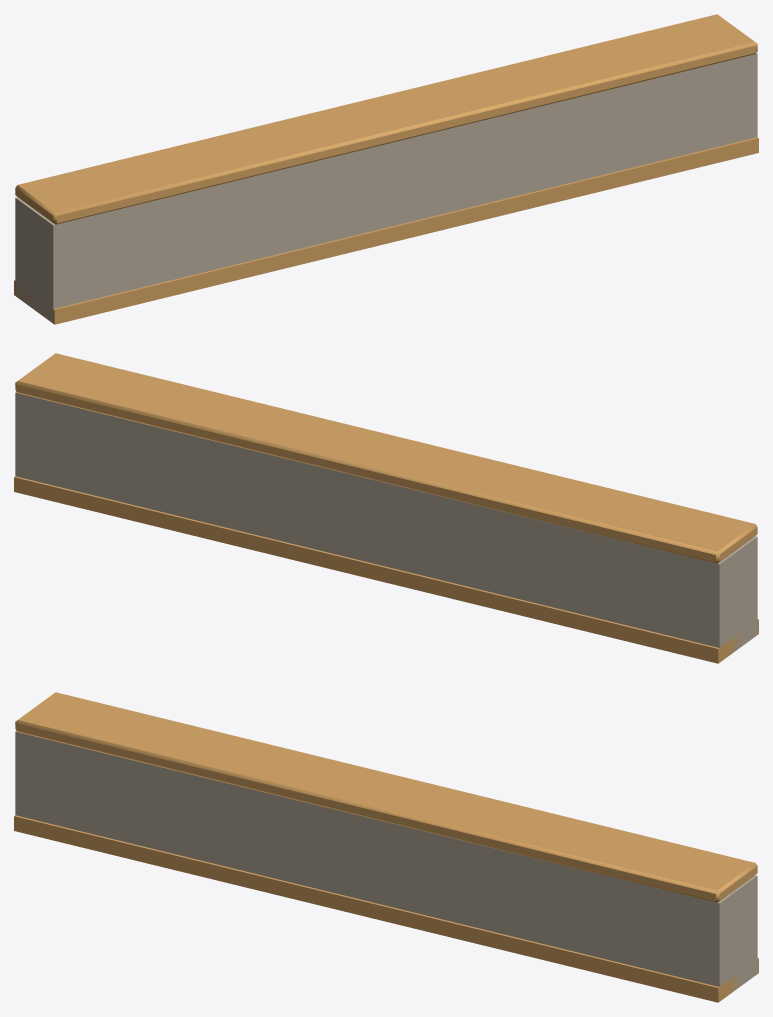
File: low_wall.glb
The picture shows the model from 3 angles, top to bottom: view 1: azimuth 30°, elevation 25°; view 2: azimuth 150°, elevation 25°; view 3: azimuth 330°, elevation 25°; orthographic projection.
Parts seen in each view (by area): view 1: body; view 2: body; view 3: body.
Part boxes in pixels (<box>): body: <box>14,14,758,324</box>; body: <box>14,353,758,663</box>; body: <box>14,692,758,1002</box>.
Size of the model in its own units: 3 by 0.45 by 0.3.
